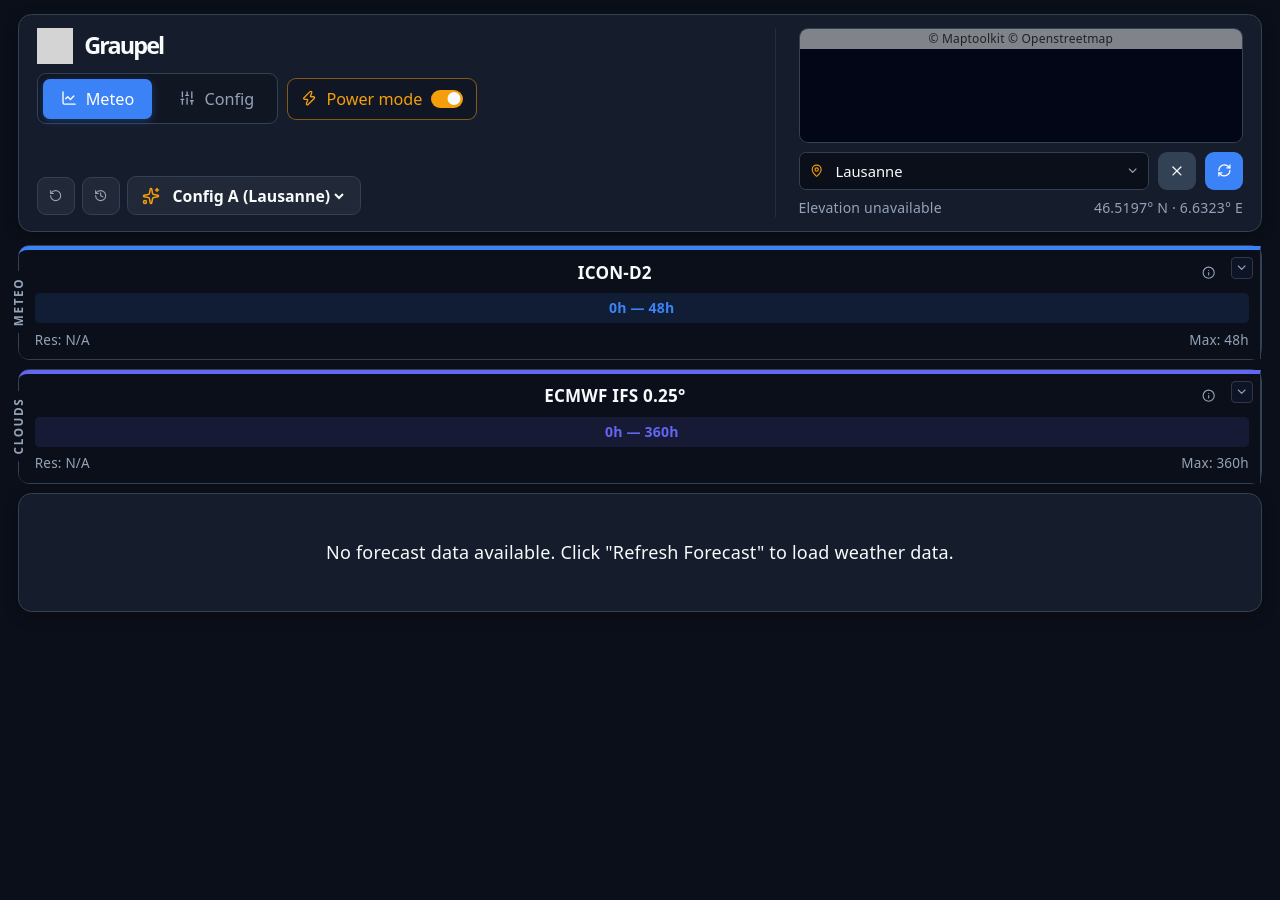
Test: Meteogram App Location State Management & Isolation › isolates Configuration View to config default location without overwriting session override
Note: Set session override to Mont Blanc
Replace the text in the field with placeholder "Search location..." with "Mont" at (974, 171), box [798,152,1148,190]
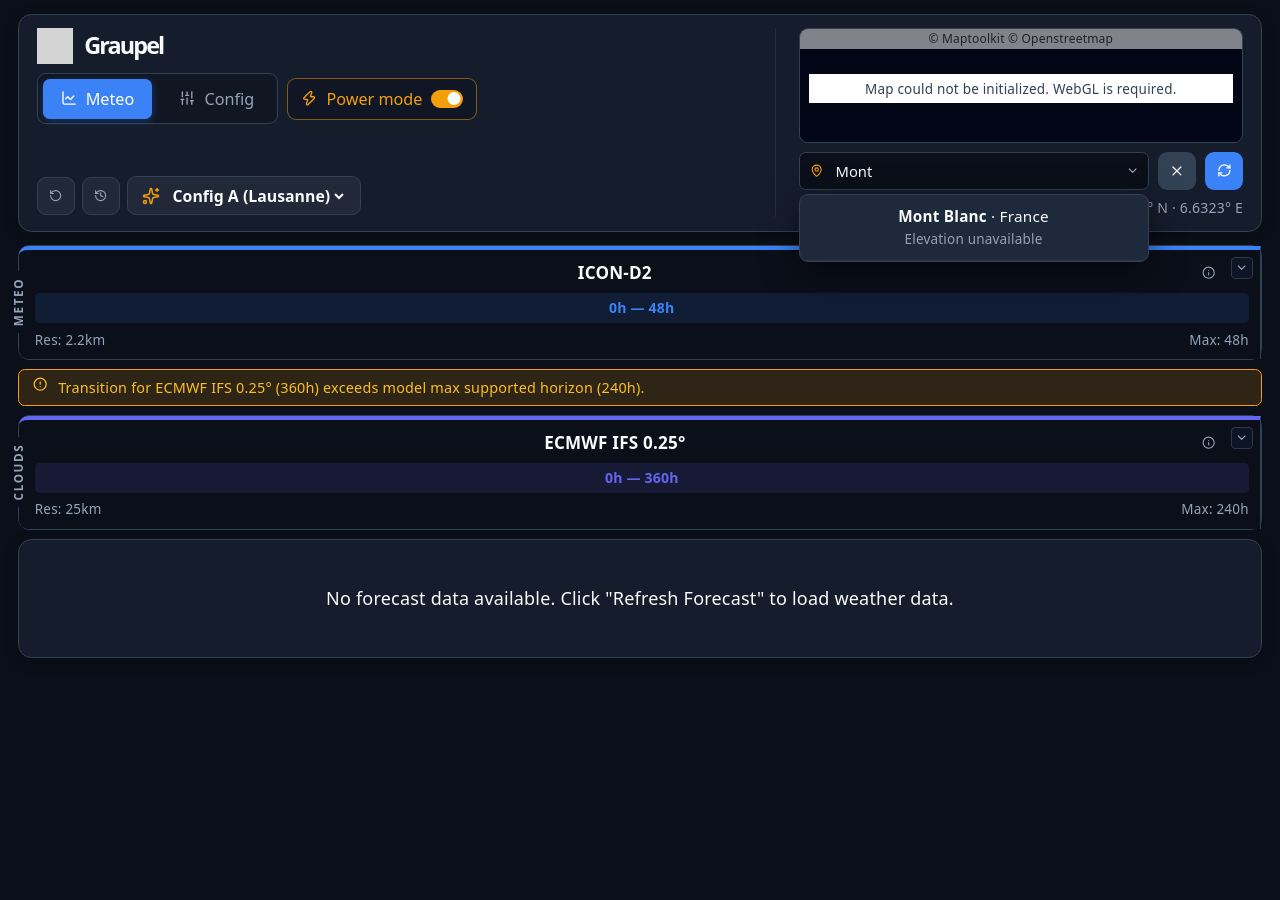
expect the text "Mont Blanc" is shown: met
Click the text "Mont Blanc" at (943, 216), box [898,206,987,226]
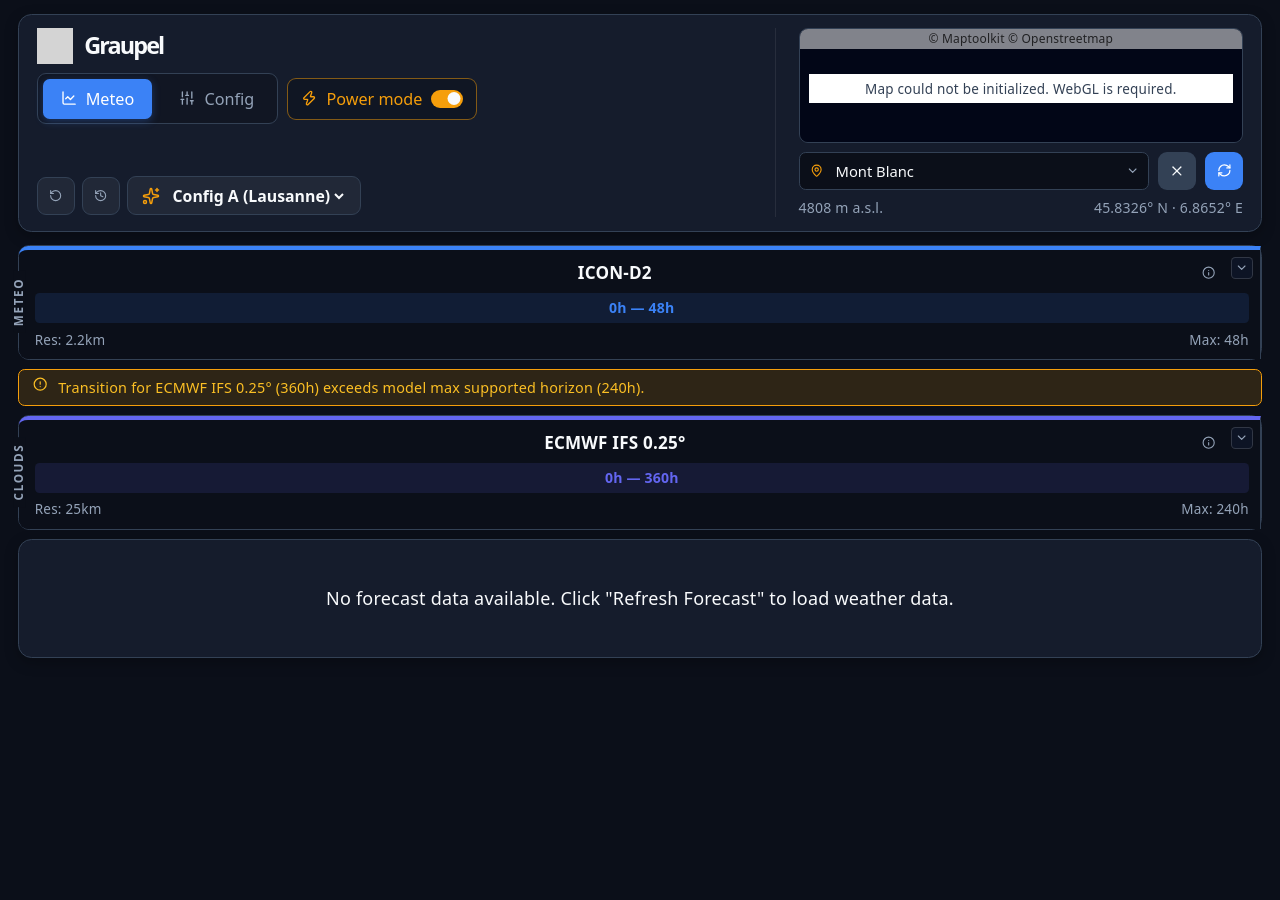
expect the field with placeholder "Search location..." holds "Mont Blanc": met, box [798,152,1148,190]
Note: Switch to Config View
Click the button "Config" at (217, 98), box [161,78,272,118]
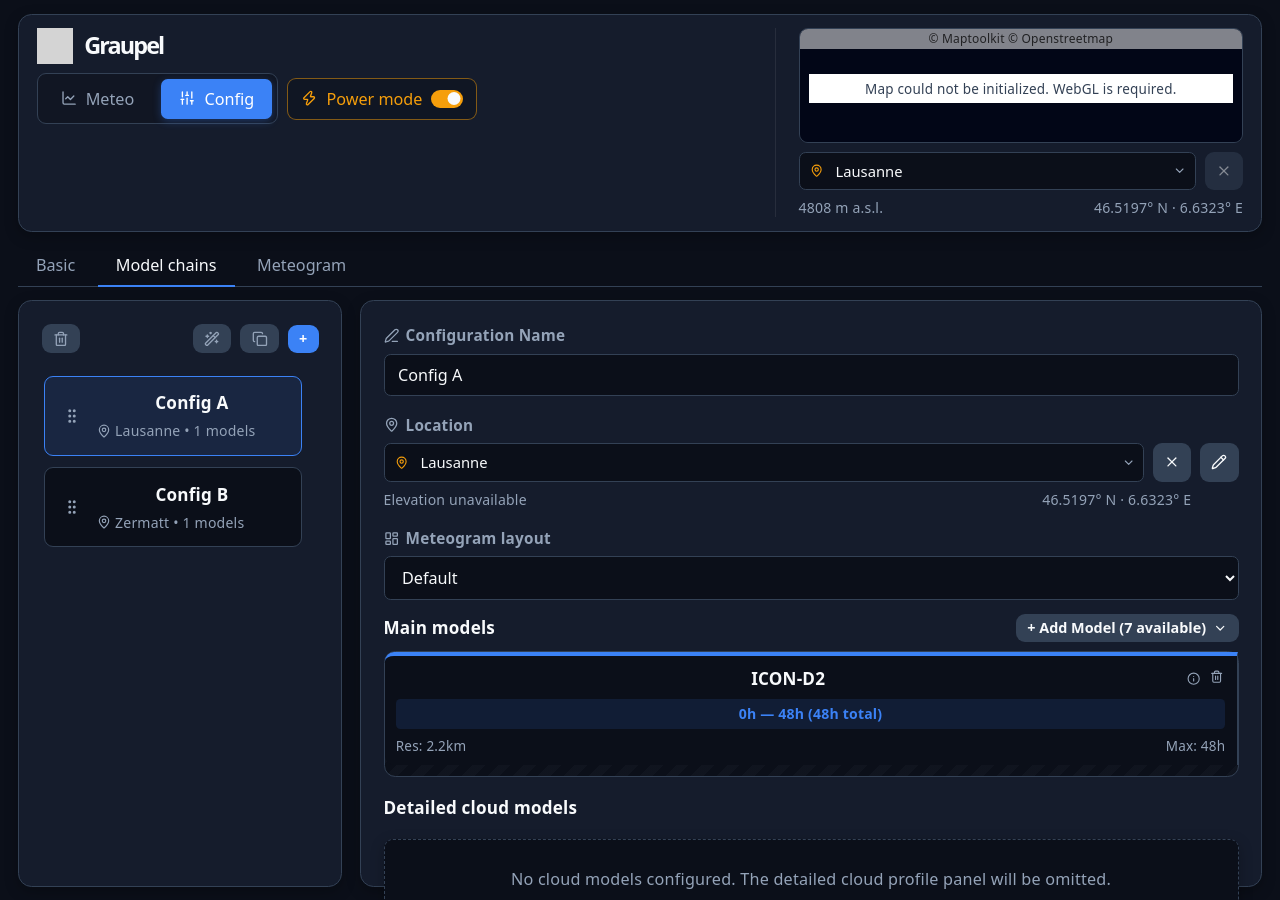
expect the field with placeholder "Search location..." holds "Lausanne": met, box [798,152,1196,190]
Note: Return to Meteogram View
Click the button "Meteo" at (97, 98), box [42,78,152,118]
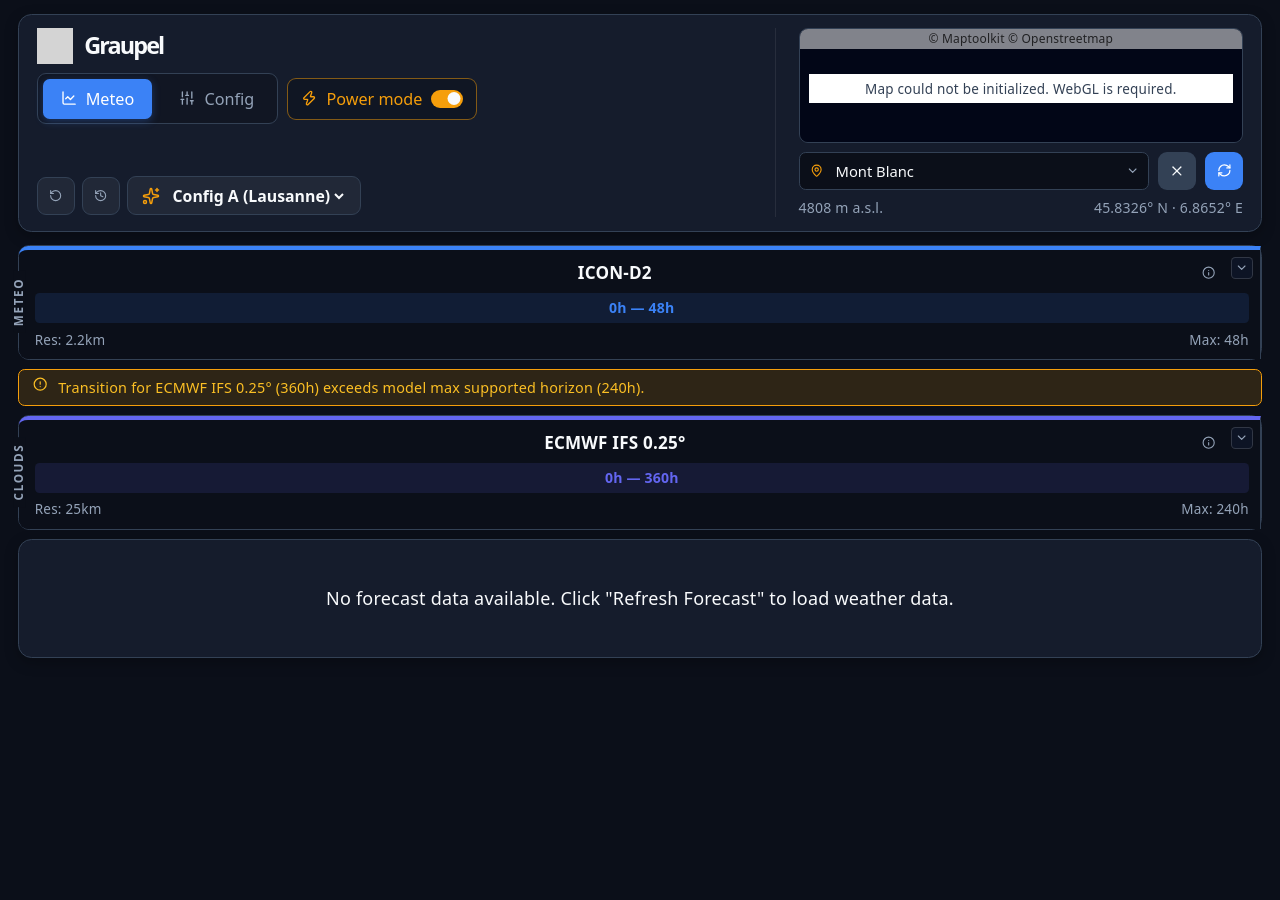
expect the field with placeholder "Search location..." holds "Mont Blanc": met, box [798,152,1148,190]
